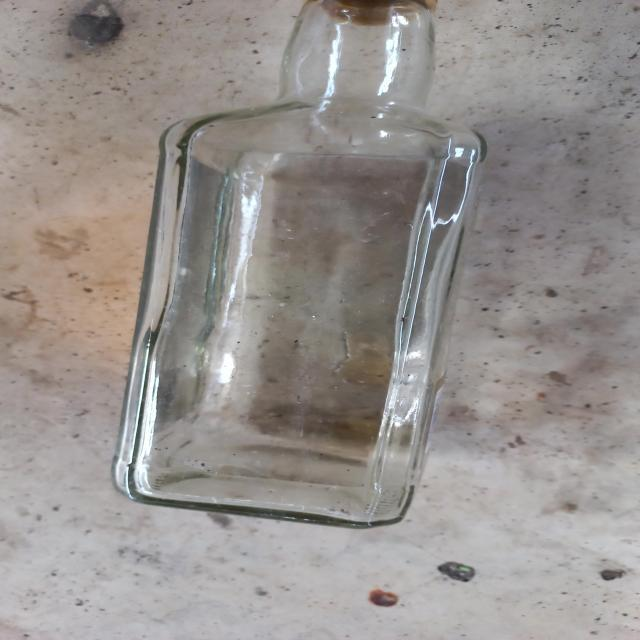Glass: (110, 0, 489, 529)
